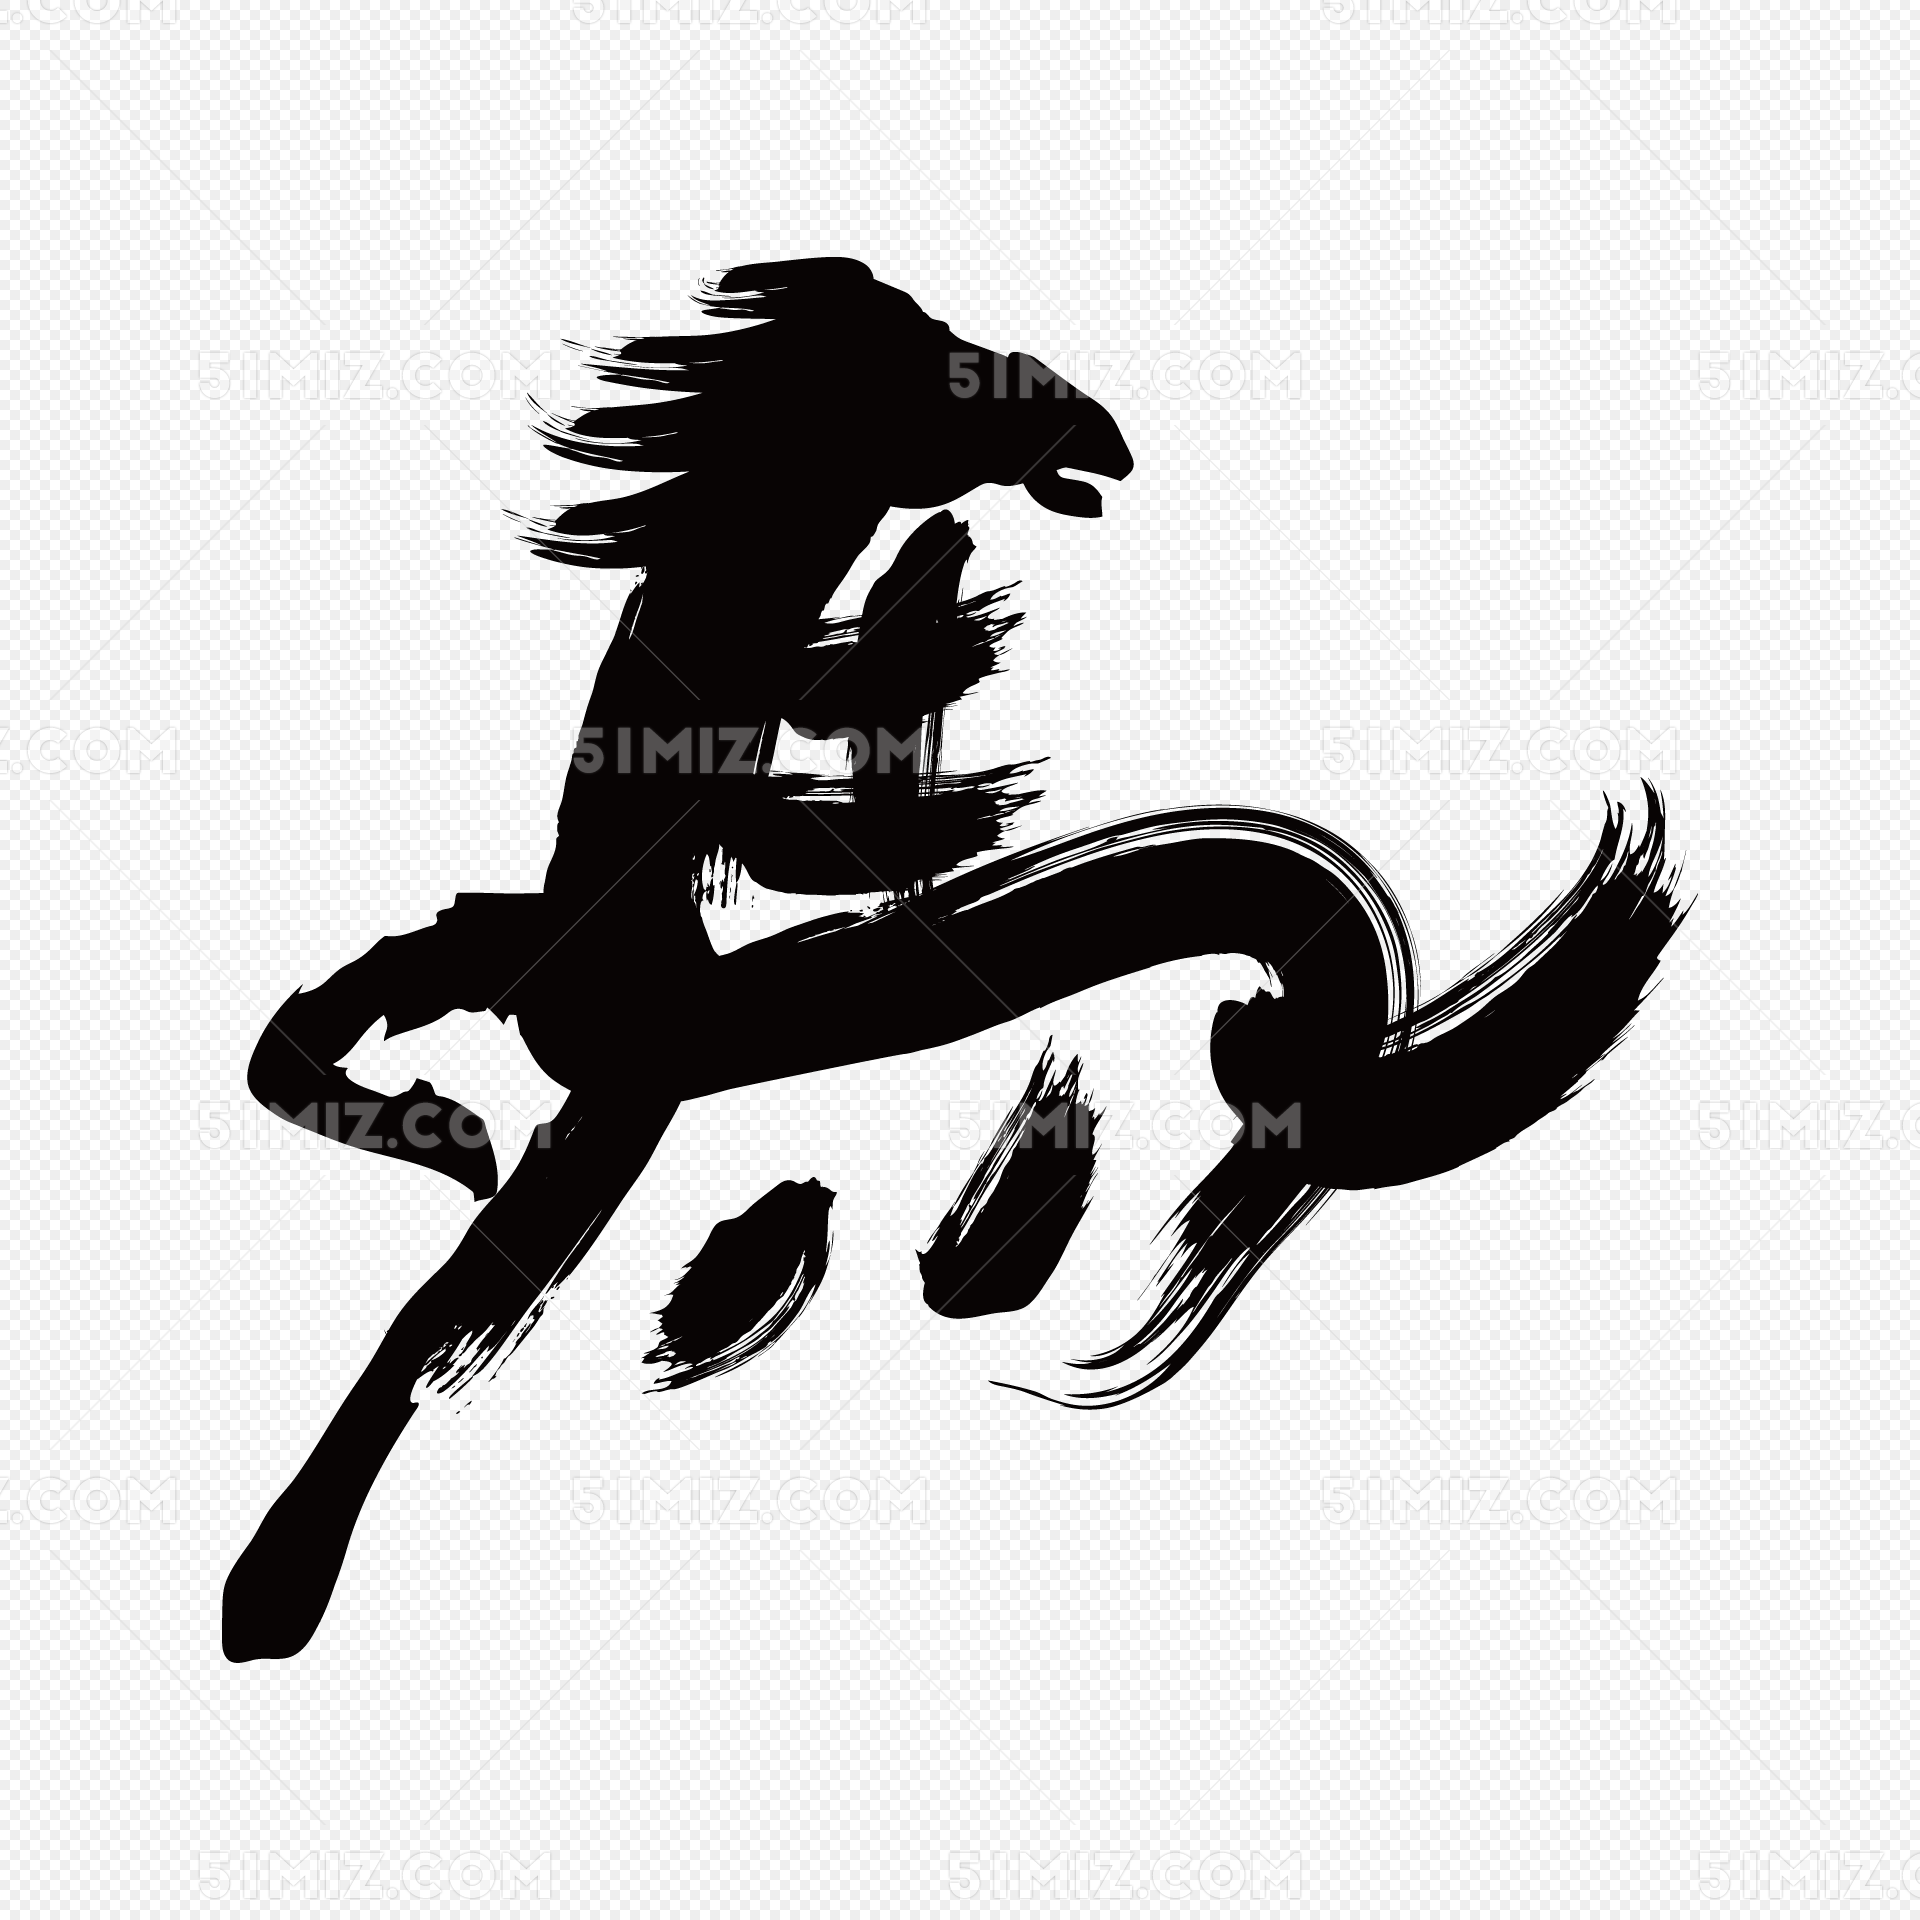background: (121, 218, 1734, 1707)
